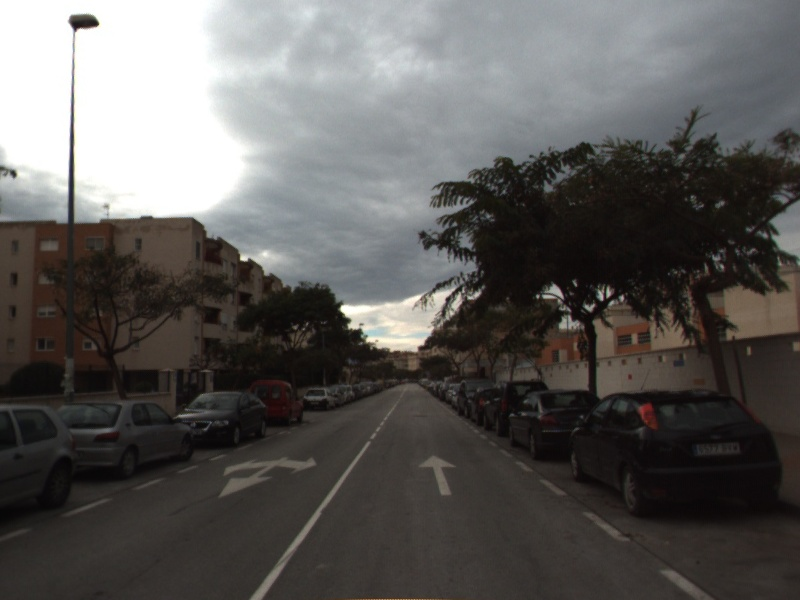STRAIGHT: (416, 453, 458, 497)
